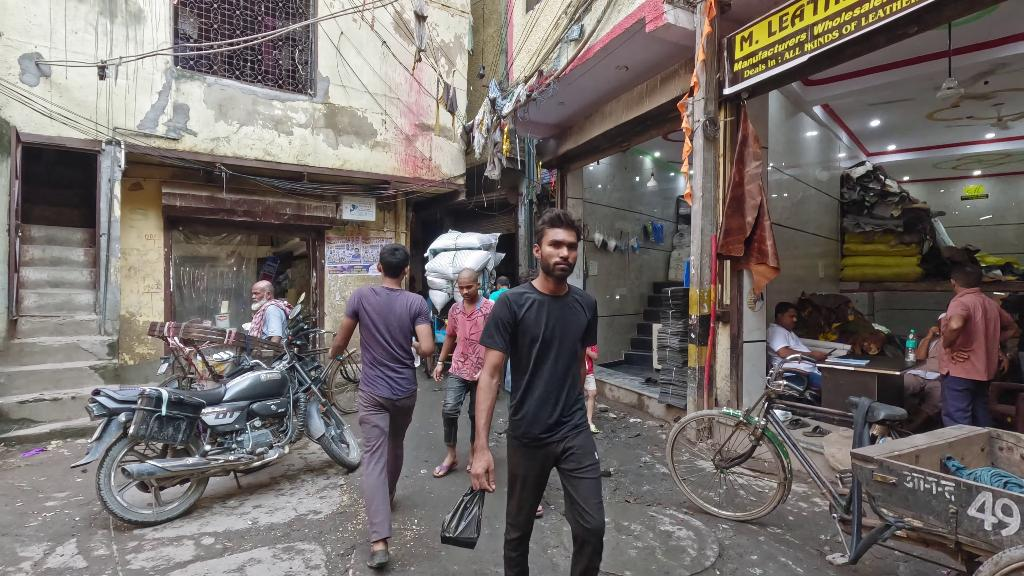garbage: (435, 485, 492, 551)
